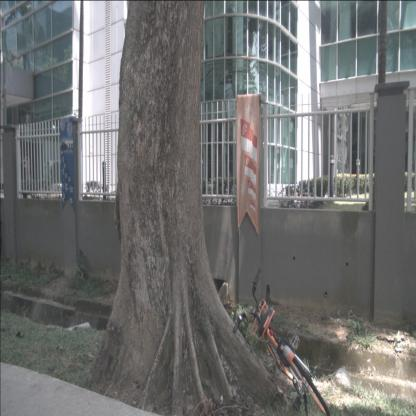vehicle-bicycle: (222, 264, 340, 416)
